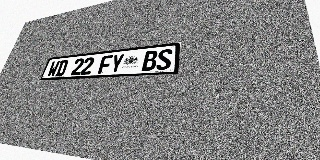plate: (40, 42, 181, 80)
